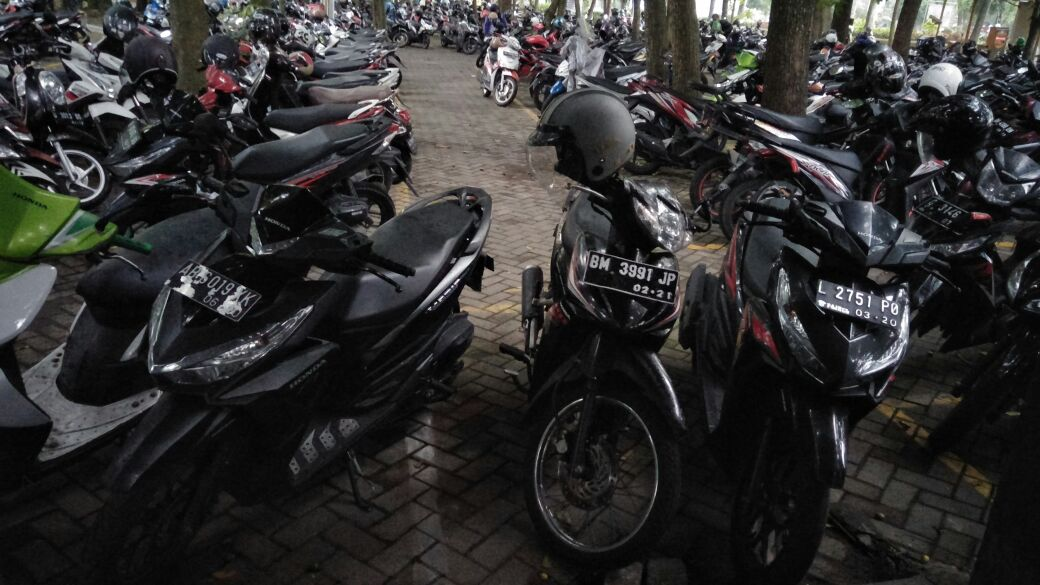plate: (170, 257, 258, 322), (582, 250, 678, 306), (815, 279, 902, 327)
